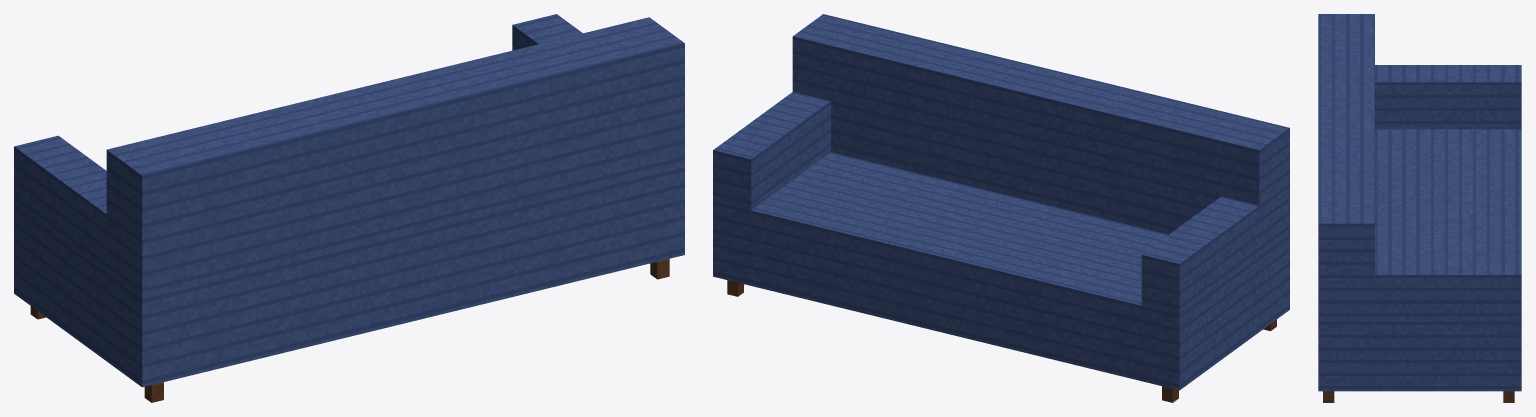
Rendered from sofa_blue.glb.
The picture shows the model from 3 angles, left to right: view 1: azimuth 30°, elevation 25°; view 2: azimuth 150°, elevation 25°; view 3: azimuth 270°, elevation 25°; orthographic projection. The views are drawn at different scales.
Parts seen in each view (by area): view 1: sofa_blue; view 2: sofa_blue; view 3: sofa_blue.
Part boxes in pixels (bbox=[...]): sofa_blue: bbox=[14, 14, 684, 402]; sofa_blue: bbox=[713, 14, 1289, 402]; sofa_blue: bbox=[1318, 14, 1521, 402].
Bounding box in the file's own units: 2.2 × 0.9 × 0.9.
Materials: 2 (2 with a texture image).
